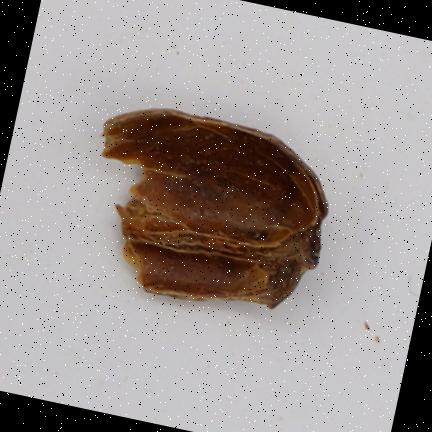husk: (103, 109, 328, 308)
